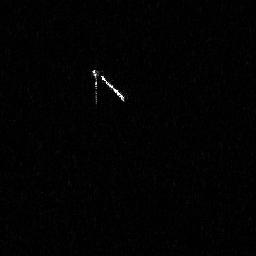ship: (90, 67, 130, 105)
